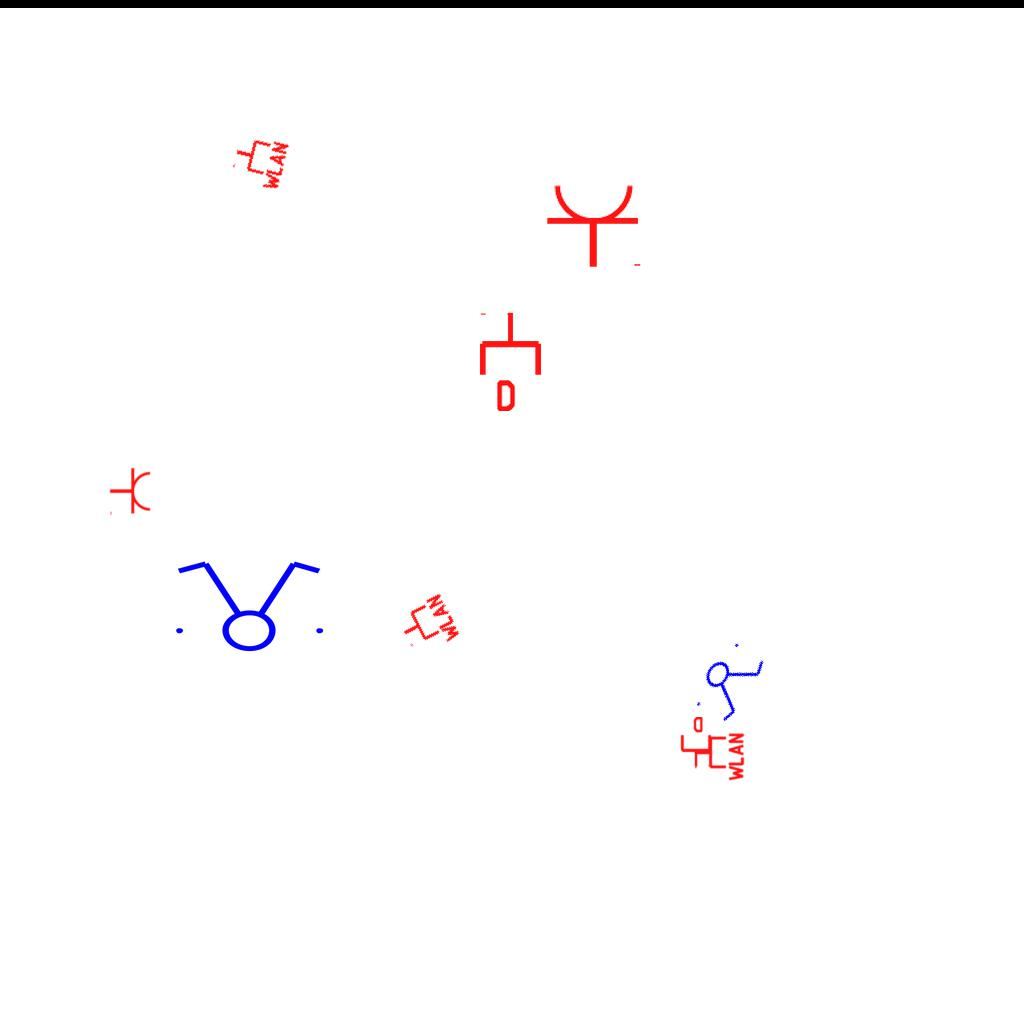Datenanschluss_einfach: (476, 311, 545, 411), (679, 717, 713, 767)
Schukosteckdose_einfach: (545, 182, 645, 269), (109, 467, 152, 517)
Serienschalter: (164, 557, 332, 653), (685, 632, 773, 730)
WLAN: (393, 591, 463, 661), (227, 130, 291, 194), (693, 731, 745, 783)
